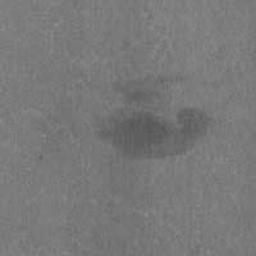Oil spot: (90, 68, 216, 164)
